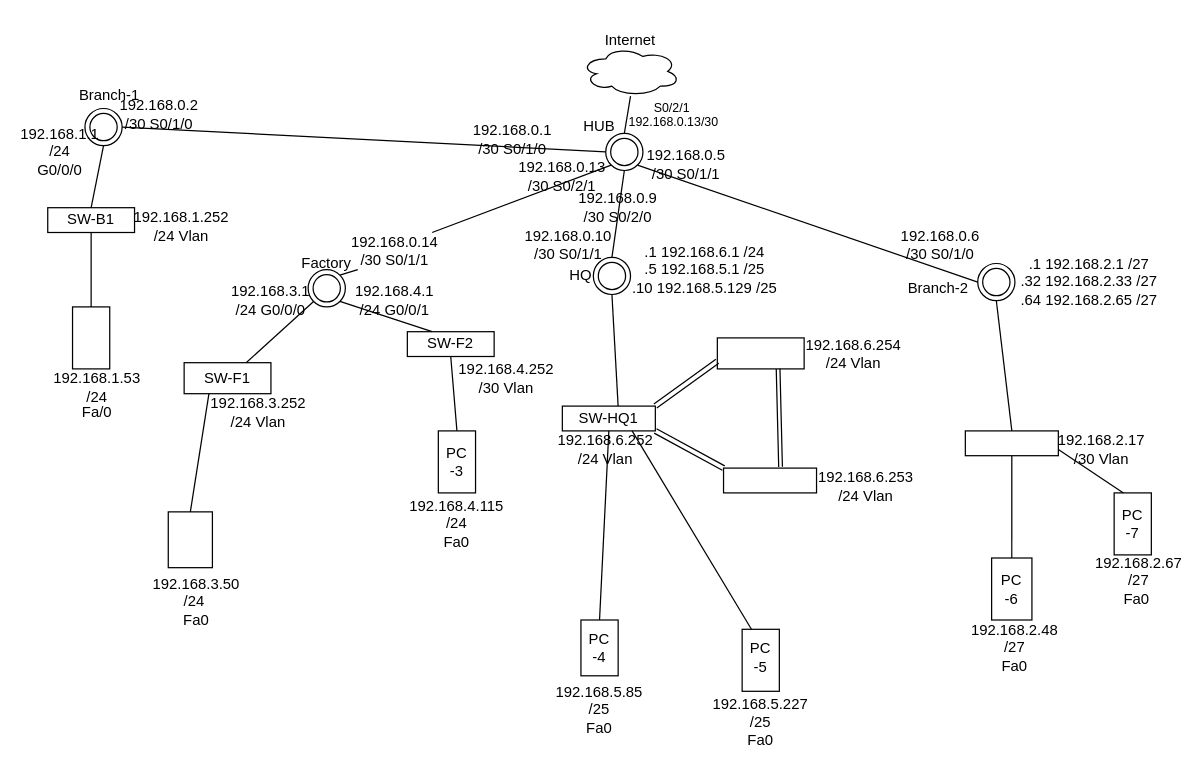
Some shapes in this 1204 by 770 pixel diagram are drawn without their labels. Here are the shapes that lost their labels. From the top down, the box of each, then its label:
(71, 306, 110, 369): PC -1
(716, 337, 804, 369): SW-HQ3
(964, 430, 1058, 456): SW-B2
(722, 467, 817, 493): SW-HQ2
(167, 511, 212, 568): PC -2
